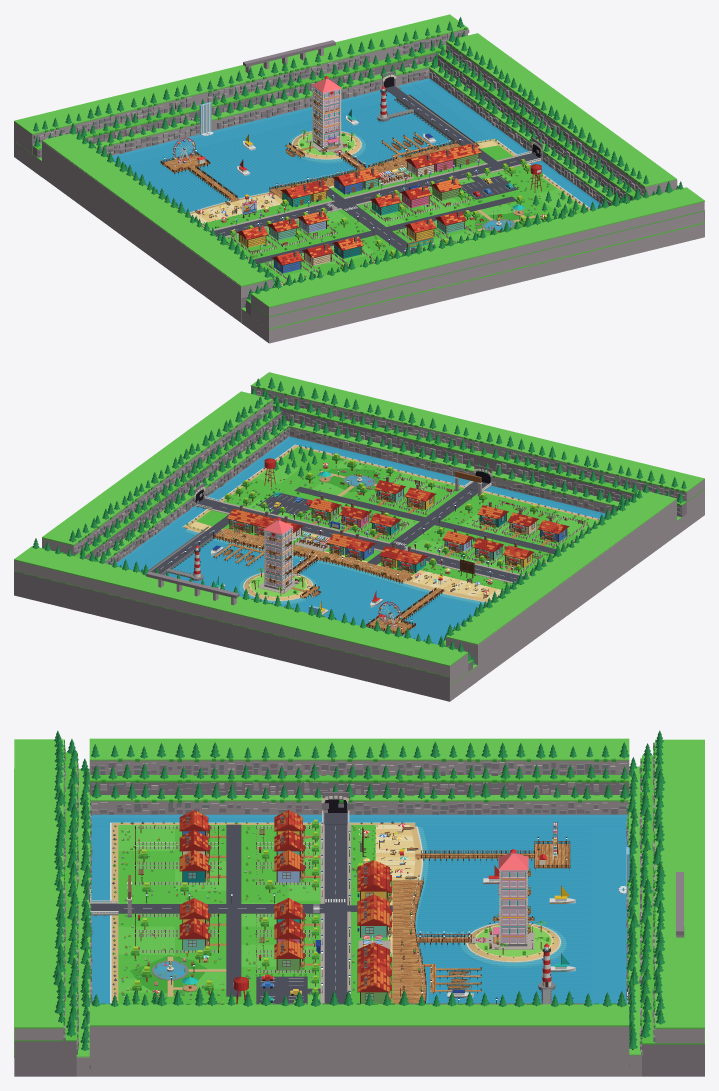
The model's file is FishermanMistressHarbor.fbx.
The picture shows the model from 3 angles, top to bottom: view 1: azimuth 30°, elevation 25°; view 2: azimuth 150°, elevation 25°; view 3: azimuth 270°, elevation 25°; orthographic projection. The views are drawn at different scales.
Visible parts, largest first — view 1: Terrain_StoneDark_2_2_00, Backdrop_Cliff_1_-1_00, Backdrop_Grass2_2_-1_00, Backdrop_Grass2_1_4_00, Backdrop_Cliff_-1_2_00, Backdrop_Grass2_4_2_00, Backdrop_Cliff_2_-1_00, Backdrop_Grass2_-1_2_00, Backdrop_Cliff_1_4_00, Water_Water_1_3_00, Water_Water_0_3_00, Water_Water_2_4_00 (+37 smaller); view 2: Backdrop_CliffDark_2_4_00, Terrain_StoneDark_2_2_00, Backdrop_Grass2_1_4_00, Backdrop_Cliff_-1_2_00, Backdrop_Grass2_2_-1_00, Backdrop_Grass2_4_2_00, Backdrop_Grass2_-1_2_00, Backdrop_Cliff_1_4_00, Water_Water_1_3_00, Backdrop_Cliff_2_-1_00, Water_Water_0_3_00, Backdrop_Cliff_1_-1_00 (+47 smaller); view 3: Backdrop_Cliff_4_2_00, Terrain_StoneDark_2_2_00, Backdrop_Grass2_1_4_00, Backdrop_Grass2_-1_2_00, Backdrop_Grass2_2_-1_00, Backdrop_Grass2_4_2_00, Backdrop_Cliff_-1_2_00, Water_Water_1_3_00, Water_Water_0_3_00, Water_Water_2_4_00, Water_Water_2_3_00, Water_Water_-1_2_00 (+87 smaller).
Part boxes in pixels (x1,y1,x2,y2): Terrain_StoneDark_2_2_00: (114, 81, 598, 211); Backdrop_Cliff_1_-1_00: (251, 201, 704, 328); Backdrop_Grass2_2_-1_00: (251, 187, 704, 307); Backdrop_Grass2_1_4_00: (14, 14, 468, 161); Backdrop_Cliff_-1_2_00: (42, 141, 272, 322); Backdrop_Grass2_4_2_00: (429, 33, 676, 202); Backdrop_Cliff_2_-1_00: (241, 223, 704, 343); Backdrop_Grass2_-1_2_00: (42, 133, 272, 287); Backdrop_Cliff_1_4_00: (14, 29, 467, 176); Water_Water_1_3_00: (198, 129, 336, 193); Water_Water_0_3_00: (127, 148, 260, 212); Water_Water_2_4_00: (112, 83, 424, 165); Backdrop_CliffDark_2_4_00: (14, 571, 472, 701); Terrain_StoneDark_2_2_00: (118, 439, 604, 643); Backdrop_Grass2_1_4_00: (14, 546, 477, 685); Backdrop_Cliff_-1_2_00: (446, 499, 676, 680); Backdrop_Grass2_2_-1_00: (250, 372, 704, 492); Backdrop_Grass2_4_2_00: (42, 391, 289, 561); Backdrop_Grass2_-1_2_00: (446, 491, 676, 644); Backdrop_Cliff_1_4_00: (14, 560, 477, 701); Water_Water_1_3_00: (283, 565, 411, 625); Backdrop_Cliff_2_-1_00: (289, 427, 704, 535); Water_Water_0_3_00: (359, 585, 486, 643); Backdrop_Cliff_1_-1_00: (251, 386, 704, 513); Backdrop_Cliff_4_2_00: (89, 1006, 629, 1076); Terrain_StoneDark_2_2_00: (91, 818, 626, 1003); Backdrop_Grass2_1_4_00: (628, 739, 704, 1055); Backdrop_Grass2_-1_2_00: (89, 738, 629, 801); Backdrop_Grass2_2_-1_00: (14, 739, 63, 1028); Backdrop_Grass2_4_2_00: (90, 1004, 629, 1026); Backdrop_Cliff_-1_2_00: (90, 760, 629, 817); Water_Water_1_3_00: (415, 876, 591, 926); Water_Water_0_3_00: (417, 826, 591, 876); Water_Water_2_4_00: (591, 826, 627, 1004); Water_Water_2_3_00: (415, 926, 591, 976); Water_Water_-1_2_00: (91, 814, 627, 826).
Bounding box in the file's own units: 723 × 117 × 731.
